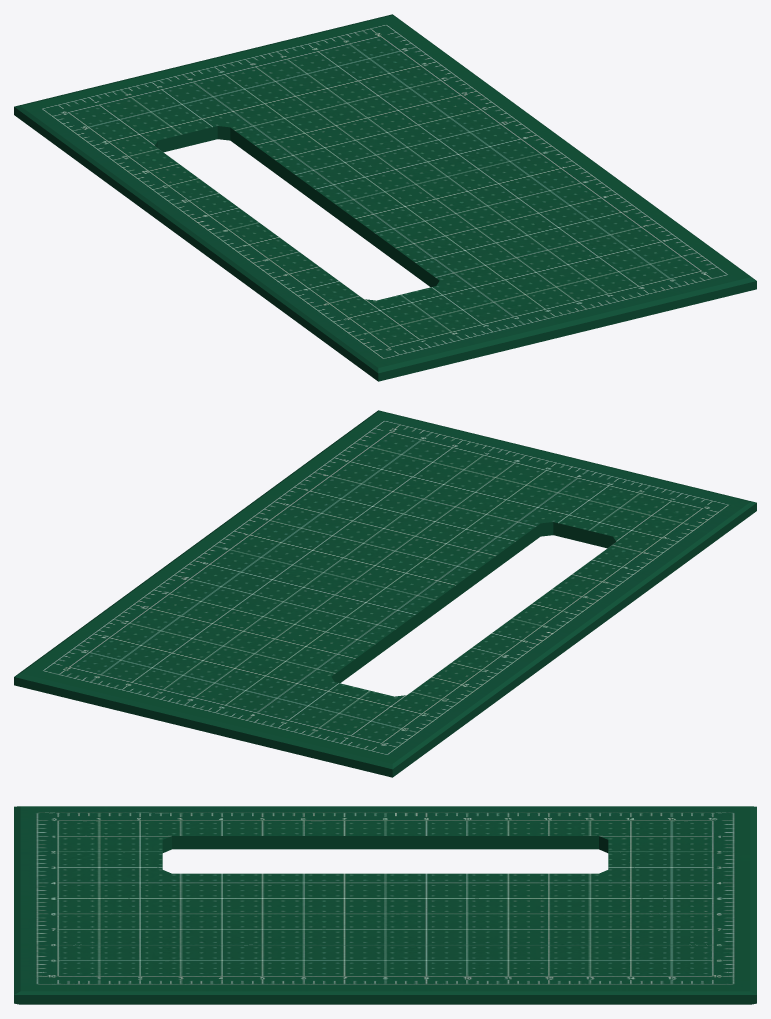
Rendered from desk_top03.fbx.
The picture shows the model from 3 angles, top to bottom: view 1: azimuth 30°, elevation 25°; view 2: azimuth 150°, elevation 25°; view 3: azimuth 270°, elevation 25°; orthographic projection.
Visible parts, largest first — view 1: 상판; view 2: 상판; view 3: 상판.
Boxes of the visible parts, <box> form: 상판: <box>14,14,756,381</box>; 상판: <box>14,410,756,777</box>; 상판: <box>14,806,756,1004</box>.
Bounding box in the file's own units: 120 × 4 × 200.
Materials: 1 (1 with a texture image).
